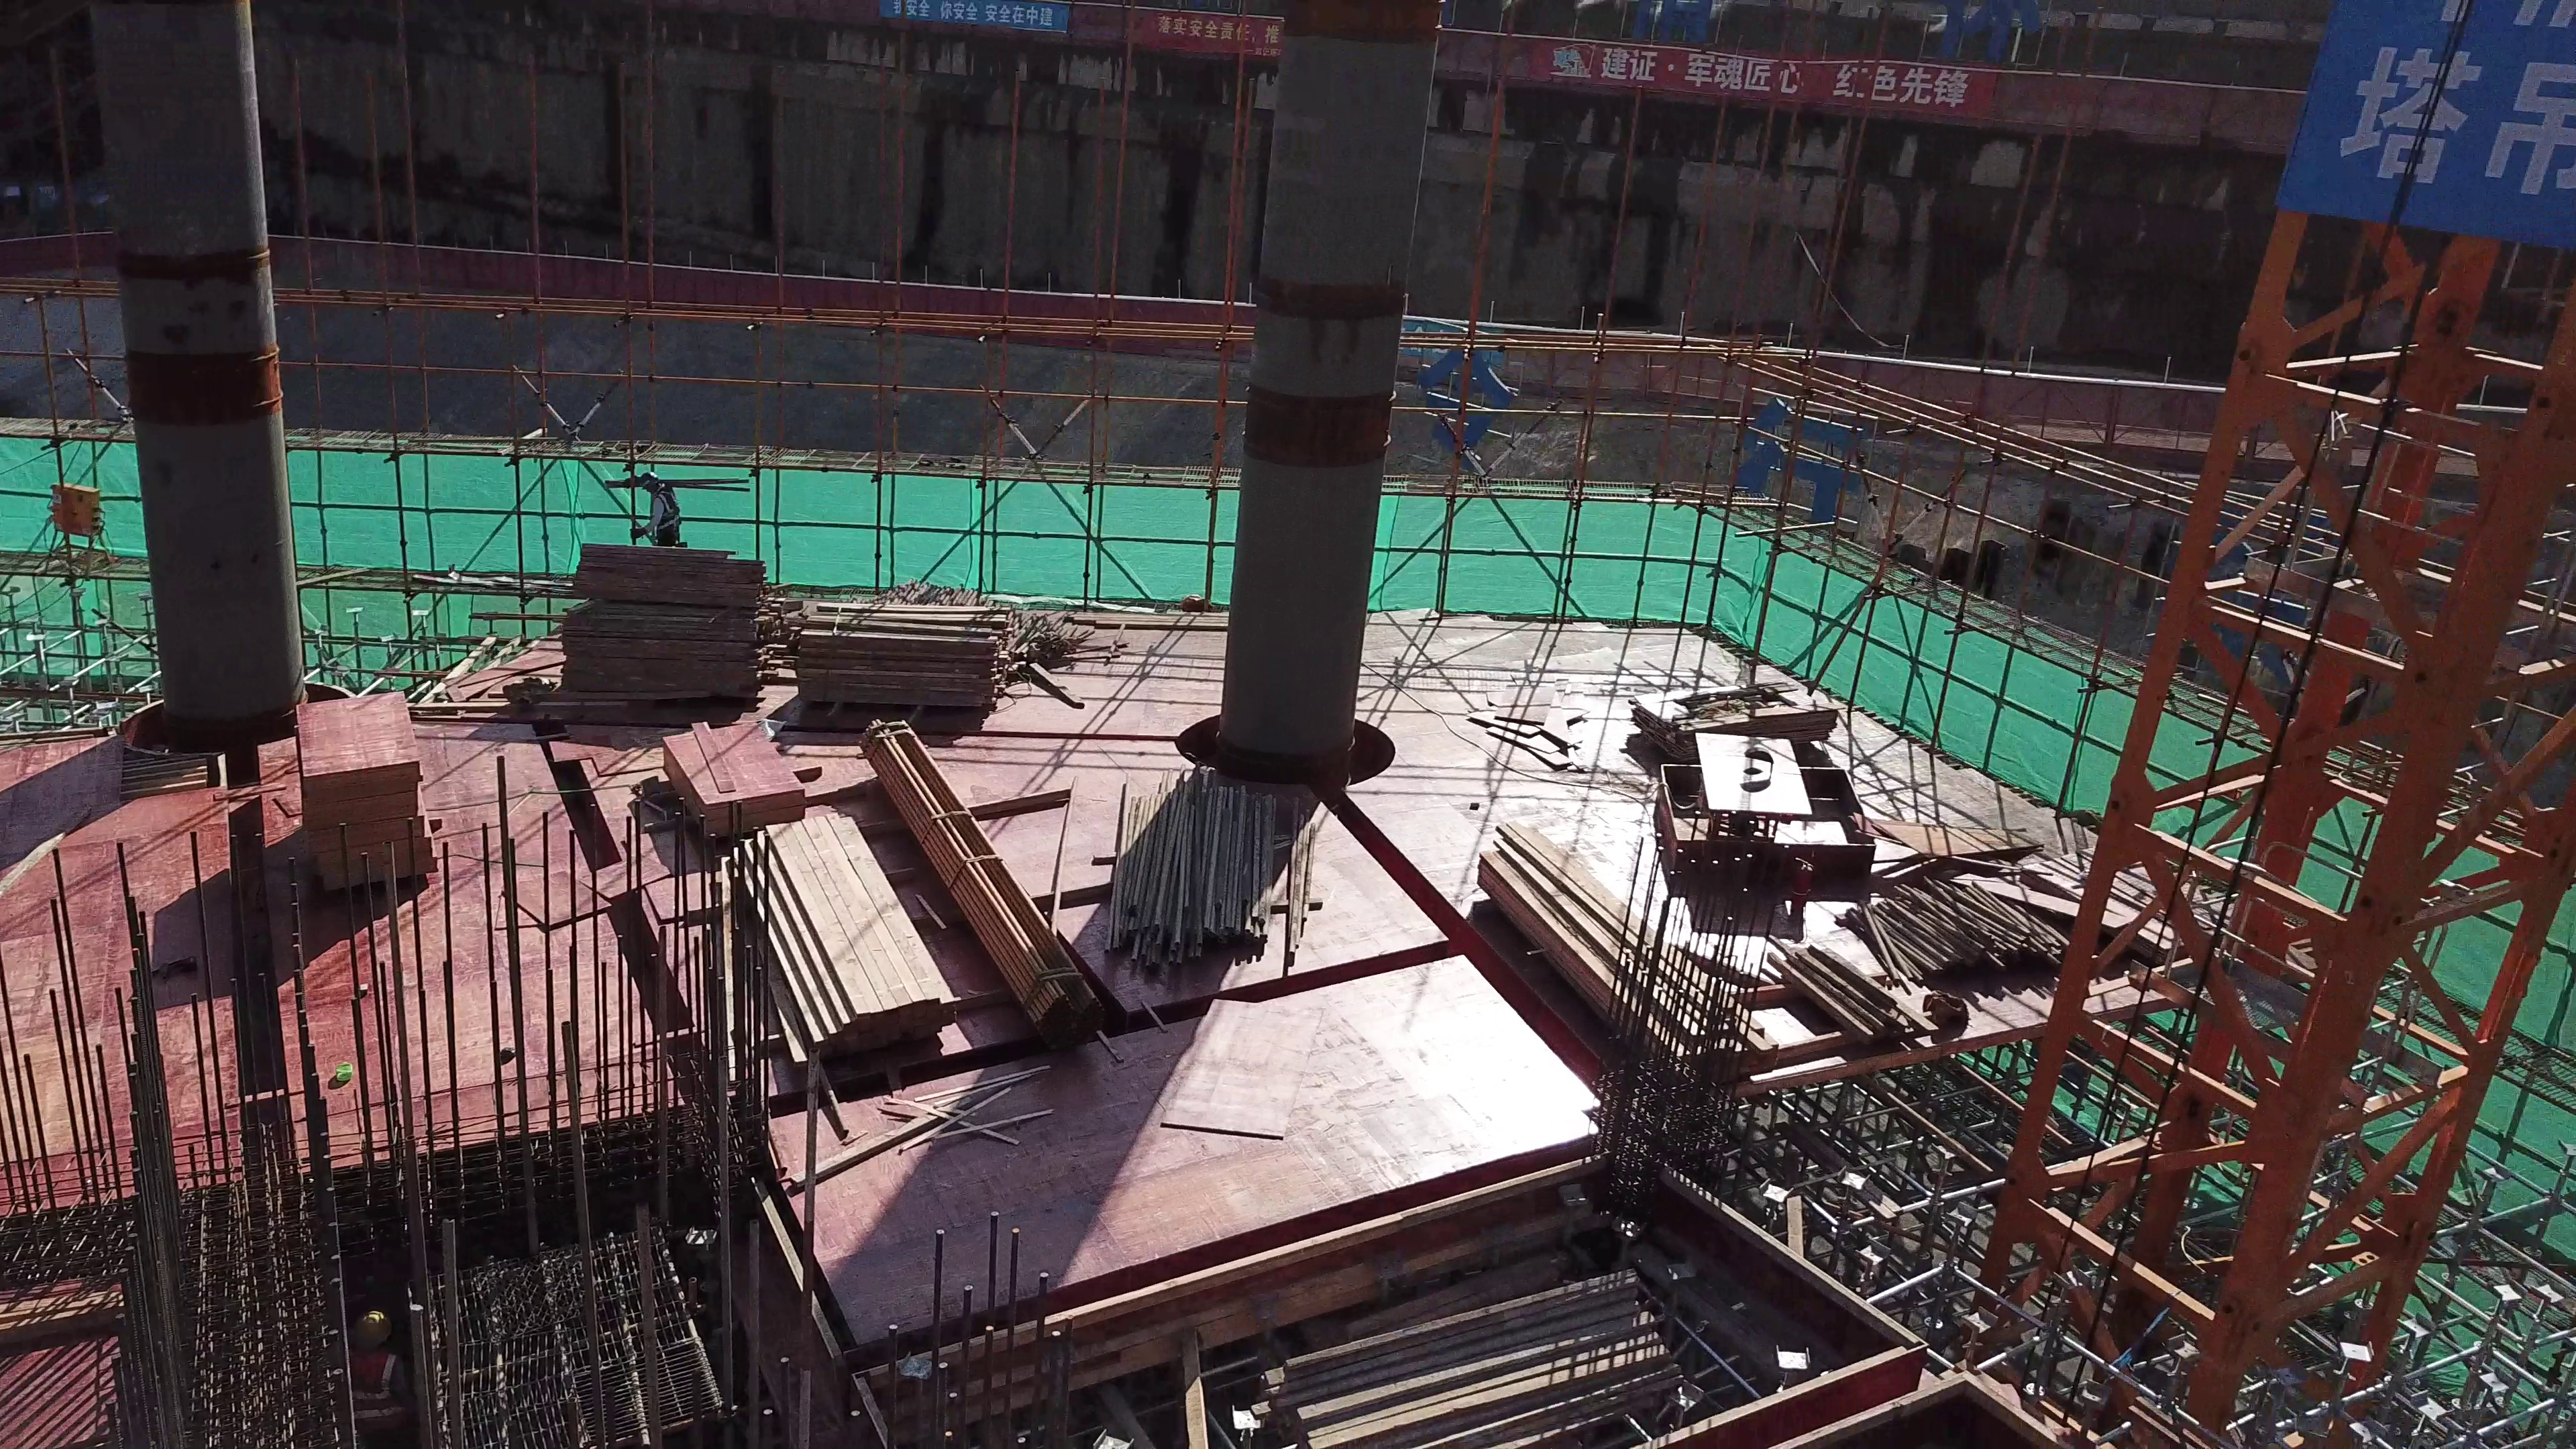board: (284, 691, 448, 886), (655, 717, 822, 838)
cutter: (1644, 726, 1876, 881)
ebox: (34, 476, 115, 572)
helmet: (358, 1309, 390, 1345), (638, 470, 661, 490)
person: (338, 1307, 422, 1447), (627, 466, 698, 555)
scaffold: (1845, 879, 2059, 976), (1012, 609, 1116, 669)
slogan: (1544, 31, 1972, 115), (880, 1, 1072, 38), (1152, 11, 1287, 52)
vest: (345, 1350, 411, 1424), (651, 488, 687, 542)
wood: (692, 808, 959, 1084), (1473, 818, 1760, 1068), (559, 549, 780, 715), (792, 594, 1004, 711)
